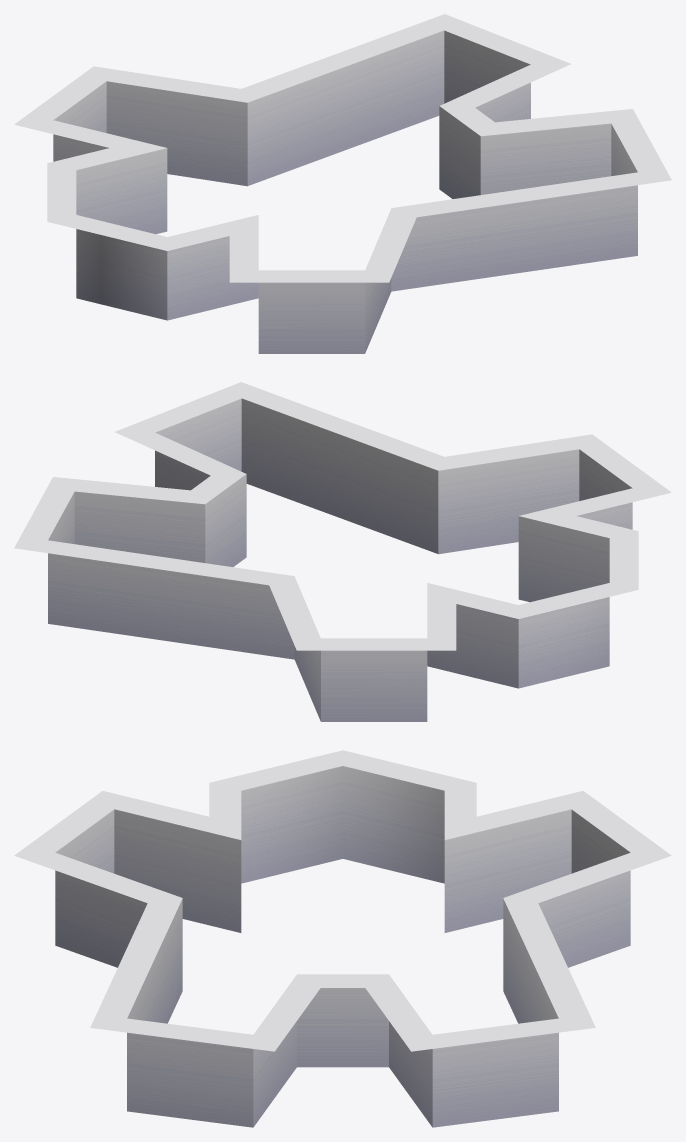
File: kf_ginger-bread-cutter.glb
The picture shows the model from 3 angles, top to bottom: view 1: azimuth 30°, elevation 25°; view 2: azimuth 150°, elevation 25°; view 3: azimuth 270°, elevation 25°; orthographic projection. The views are drawn at different scales.
Visible parts, largest first — view 1: ginger-bread-cutter; view 2: ginger-bread-cutter; view 3: ginger-bread-cutter.
Boxes of the visible parts, left/top/right/bottom form: ginger-bread-cutter: left=14, top=14, right=671, bottom=353; ginger-bread-cutter: left=14, top=382, right=671, bottom=721; ginger-bread-cutter: left=14, top=750, right=671, bottom=1127.
Size of the model in its own units: 0.0851 by 0.0122 by 0.0785.
1 material, 1 textured.
